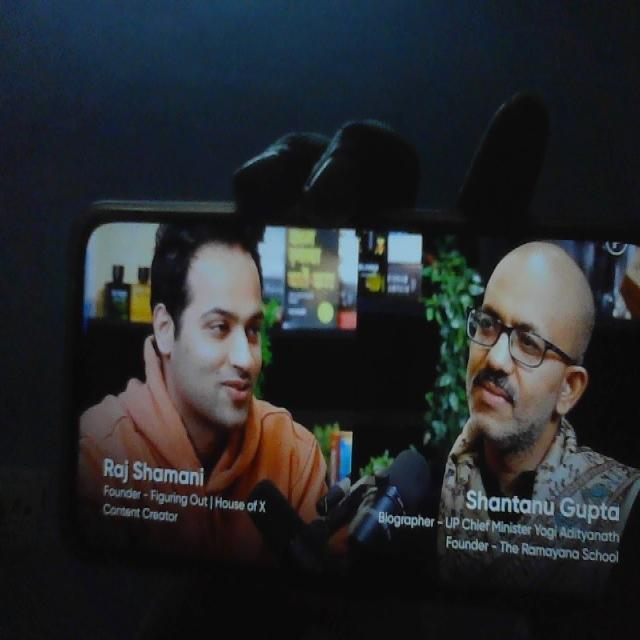fake: (456, 221, 578, 452), (157, 210, 278, 438)
